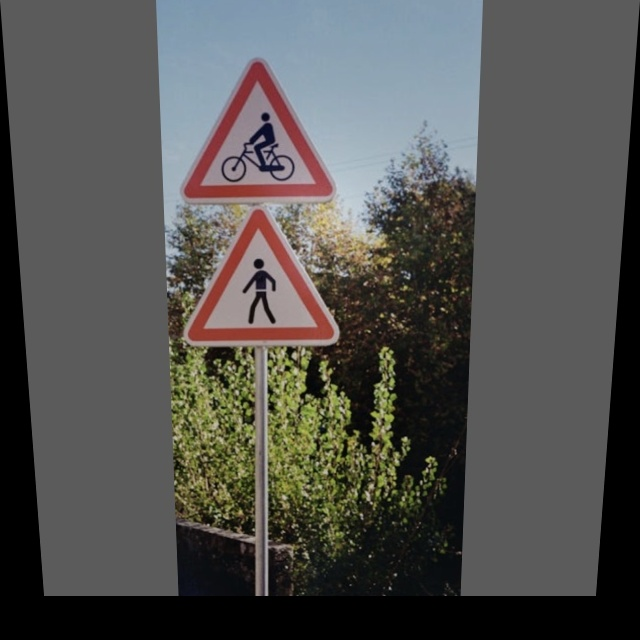Cycle_Crossing: (182, 55, 328, 203)
